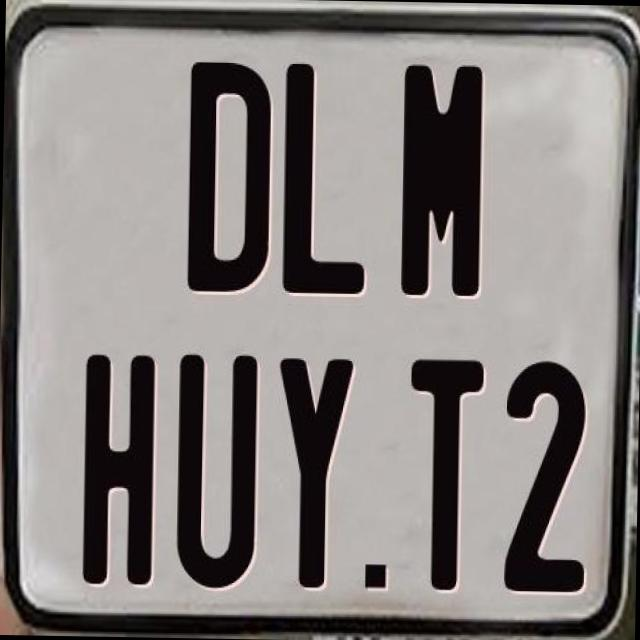2: (504, 358, 596, 596)
D: (183, 59, 270, 295)
H: (80, 353, 160, 586)
L: (279, 59, 371, 296)
M: (398, 59, 480, 299)
T: (405, 355, 487, 596)
U: (173, 351, 257, 594)
Y: (274, 357, 354, 592)
